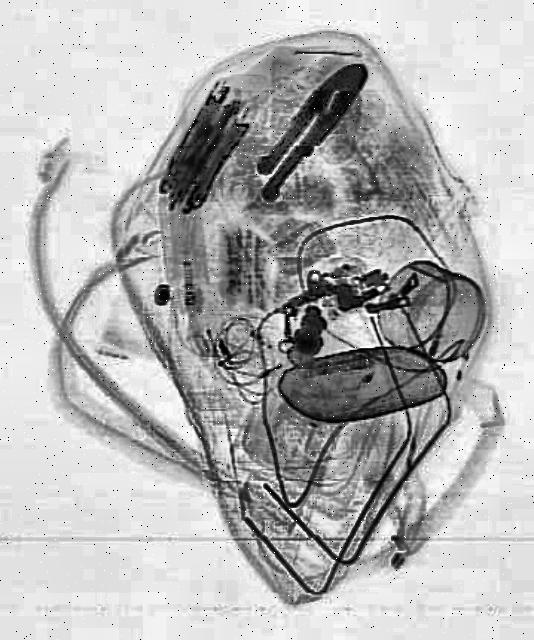Pliers: (242, 55, 378, 207)
